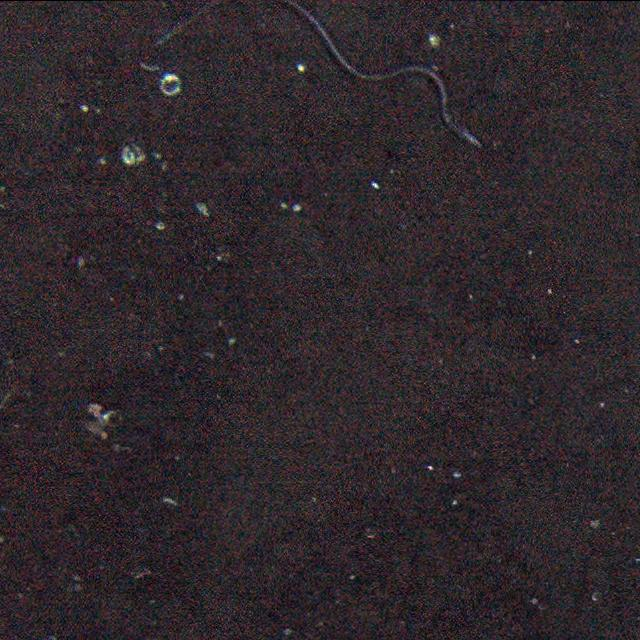eel: (151, 0, 486, 150)
